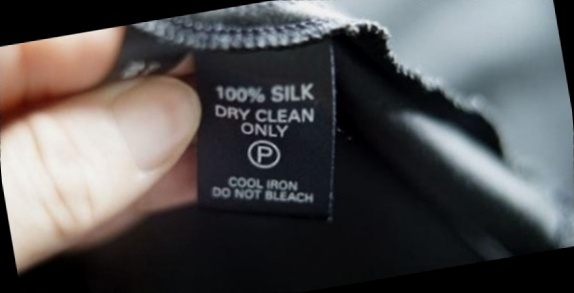dry_clean_any_solvent_except_trichloroethylene: (243, 133, 287, 174)
